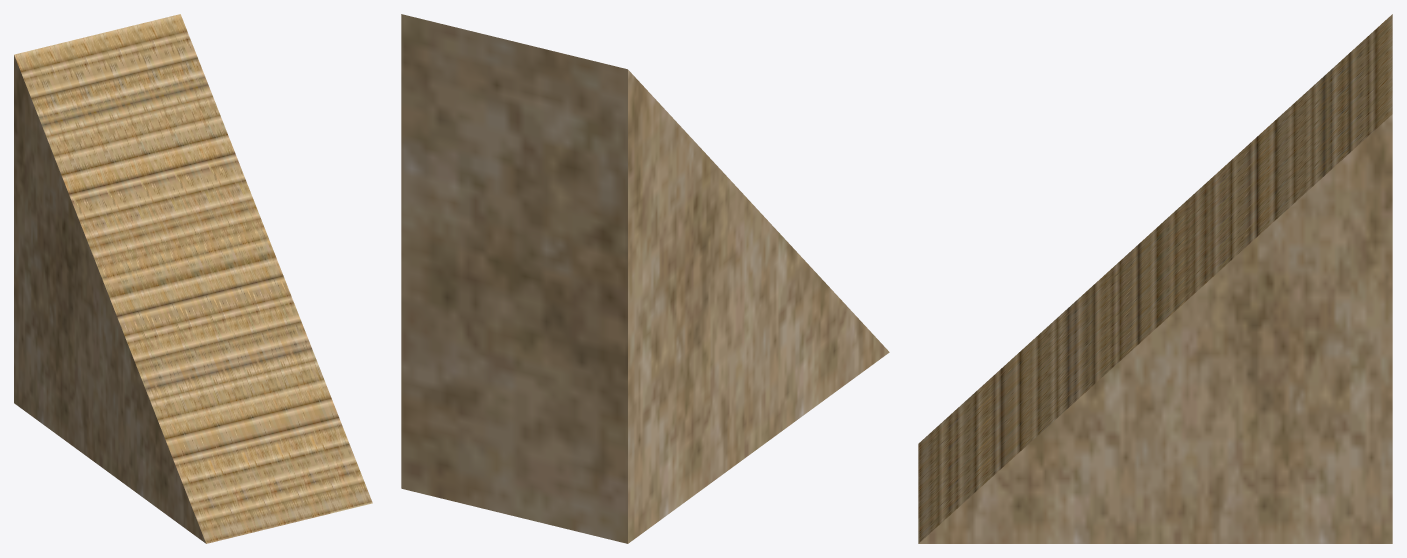
Rendered from thm_tato_imprv_stair_sml_s02_l2.fbx.
3 views of the same model, side by side, from view 1: azimuth 30°, elevation 25°; view 2: azimuth 150°, elevation 25°; view 3: azimuth 270°, elevation 25° (orthographic). The views are drawn at different scales.
Visible parts, largest first — view 1: mesh_node; view 2: mesh_node; view 3: mesh_node.
Part boxes in pixels (x1,y1,x2,y2): mesh_node: (14, 14, 372, 543); mesh_node: (401, 14, 889, 543); mesh_node: (918, 14, 1392, 543).
Bounding box in the file's own units: 4 × 8 × 8.
